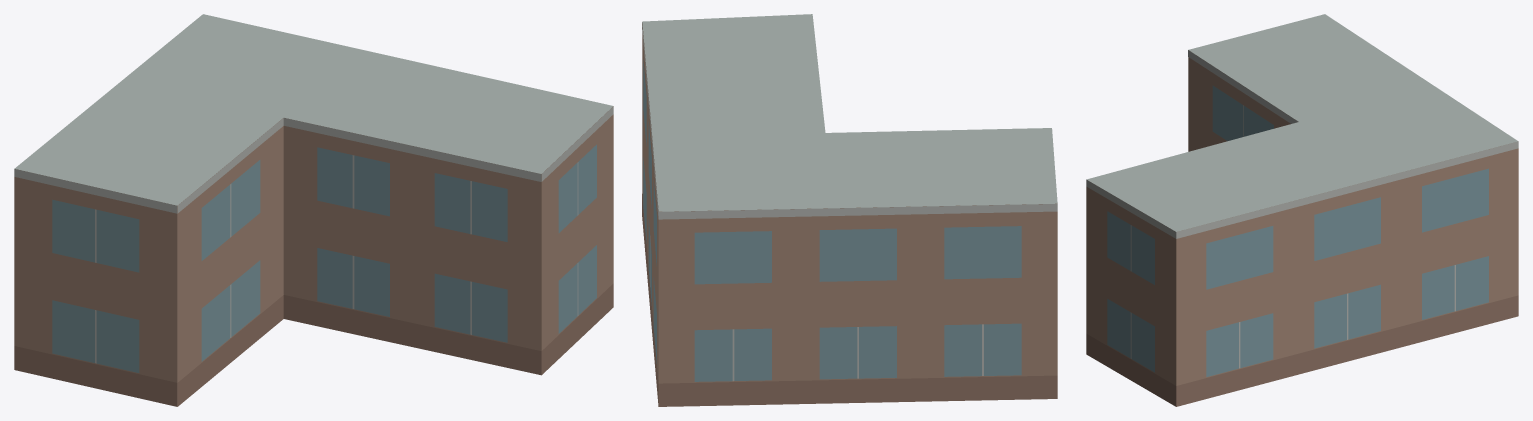
Rendered from survey-upis-32908250.glb.
3 renders of one model, left to right at view 1: azimuth 30°, elevation 25°; view 2: azimuth 150°, elevation 25°; view 3: azimuth 270°, elevation 25°, orthographic. The views are drawn at different scales.
Parts seen in each view (by area): view 1: survey-upis-32908250.tmp; view 2: survey-upis-32908250.tmp; view 3: survey-upis-32908250.tmp.
Boxes of the visible parts, x1=… form: survey-upis-32908250.tmp: x1=14, y1=14, x2=613, y2=406; survey-upis-32908250.tmp: x1=642, y1=14, x2=1057, y2=406; survey-upis-32908250.tmp: x1=1086, y1=14, x2=1518, y2=406.
Bounding box in the file's own units: 16.31 × 6.1 × 13.67.
